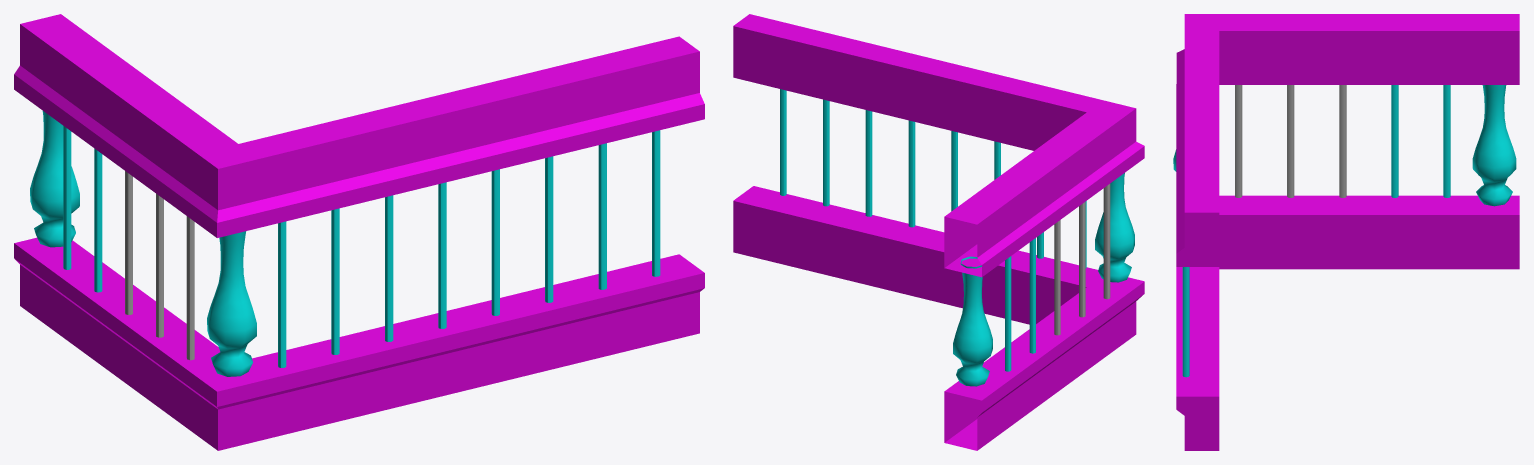
File: balkuni_left_02.fbx
3 views of the same model, side by side, from view 1: azimuth 30°, elevation 25°; view 2: azimuth 150°, elevation 25°; view 3: azimuth 270°, elevation 25° (orthographic). The views are drawn at different scales.
Visible parts, largest first — view 1: polySurface200, polySurface209, polySurface194, polySurface210, polySurface201, polySurface203, polySurface204, polySurface207, polySurface206, polySurface208, polySurface202, polySurface205 (+5 smaller); view 2: polySurface200, polySurface209, polySurface210, polySurface194, polySurface199, polySurface205, polySurface206, polySurface198, polySurface195, polySurface197, polySurface196, polySurface207 (+2 smaller); view 3: polySurface200, polySurface209, polySurface210, polySurface199, polySurface195, polySurface196, polySurface197, polySurface198, polySurface208.
Part boxes in pixels (x1,y1,x2,y2): polySurface200: [14, 14, 704, 237]; polySurface209: [14, 237, 704, 450]; polySurface194: [207, 231, 256, 376]; polySurface210: [30, 111, 79, 247]; polySurface201: [278, 221, 286, 367]; polySurface203: [438, 182, 446, 328]; polySurface204: [385, 195, 393, 341]; polySurface207: [598, 143, 606, 289]; polySurface206: [545, 156, 553, 302]; polySurface208: [652, 130, 660, 276]; polySurface202: [331, 208, 339, 354]; polySurface205: [491, 169, 499, 315]; polySurface200: [733, 14, 1144, 277]; polySurface209: [733, 186, 1144, 450]; polySurface210: [953, 256, 992, 386]; polySurface194: [1095, 173, 1134, 282]; polySurface199: [1103, 184, 1110, 299]; polySurface205: [908, 120, 915, 227]; polySurface206: [865, 110, 872, 216]; polySurface198: [1079, 201, 1085, 317]; polySurface195: [1005, 256, 1011, 371]; polySurface197: [1054, 220, 1060, 335]; polySurface196: [1029, 238, 1035, 353]; polySurface207: [823, 99, 829, 206]; polySurface200: [1176, 14, 1519, 266]; polySurface209: [1176, 195, 1519, 450]; polySurface210: [1472, 85, 1516, 206]; polySurface199: [1235, 85, 1242, 197]; polySurface195: [1443, 85, 1450, 197]; polySurface196: [1391, 85, 1398, 197]; polySurface197: [1339, 85, 1346, 197]; polySurface198: [1287, 85, 1294, 197]; polySurface208: [1182, 267, 1189, 377].
Bounding box in the file's own units: 277 × 153 × 202.
